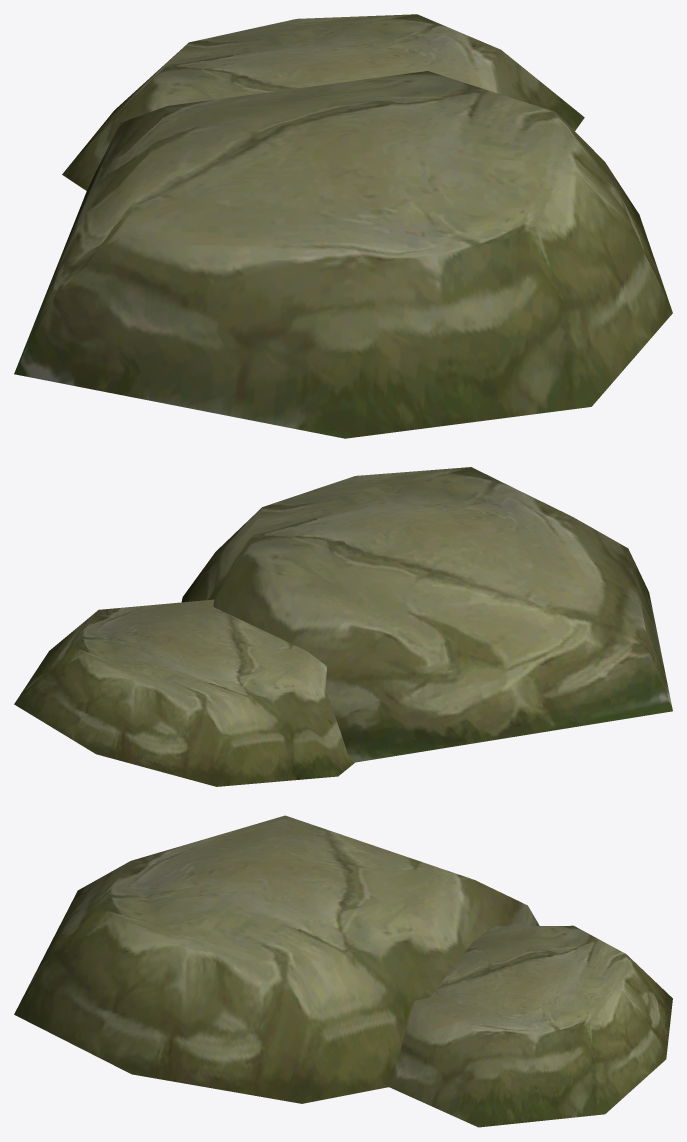
File: environment_stone_yewai_002_a.FBX
The picture shows the model from 3 angles, top to bottom: view 1: azimuth 30°, elevation 25°; view 2: azimuth 150°, elevation 25°; view 3: azimuth 270°, elevation 25°; orthographic projection. The views are drawn at different scales.
Parts seen in each view (by area): view 1: environment_stone_yewai_002_a; view 2: environment_stone_yewai_002_a; view 3: environment_stone_yewai_002_a.
Boxes of the visible parts, left/top/right/bottom form: environment_stone_yewai_002_a: left=14, top=14, right=672, bottom=438; environment_stone_yewai_002_a: left=14, top=467, right=672, bottom=786; environment_stone_yewai_002_a: left=14, top=815, right=672, bottom=1127.
Bounding box in the file's own units: 134 × 29.96 × 143.
1 material, 1 textured.
